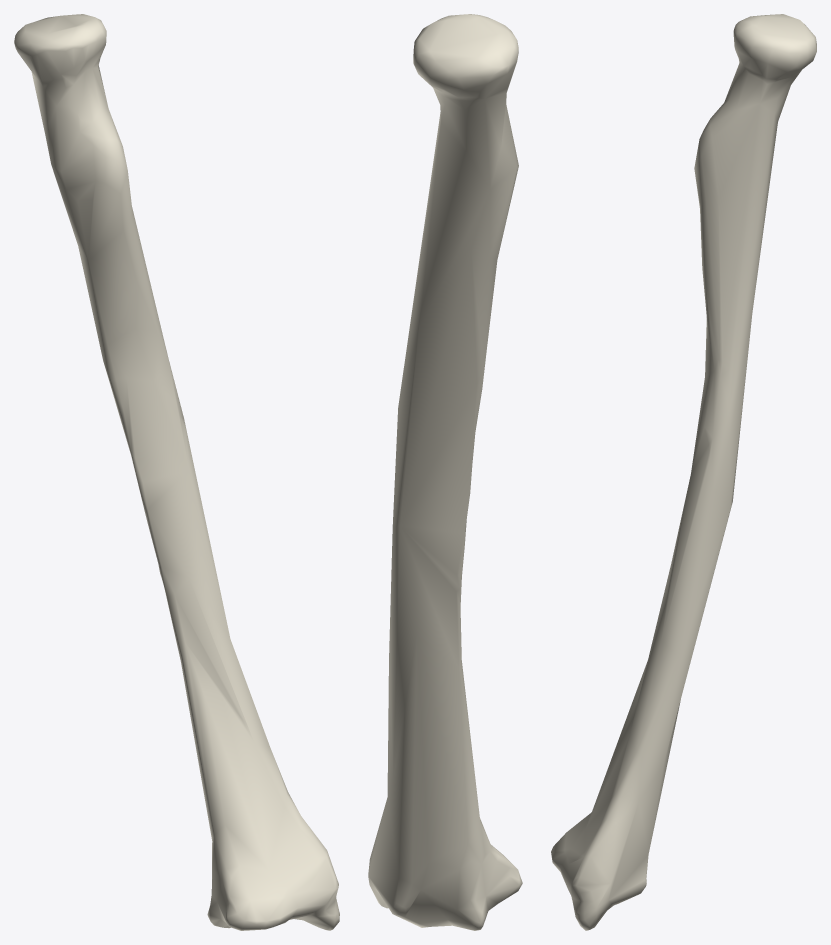
3 renders of one model, left to right at view 1: azimuth 30°, elevation 25°; view 2: azimuth 150°, elevation 25°; view 3: azimuth 270°, elevation 25°, orthographic. The views are drawn at different scales.
Parts seen in each view (by area): view 1: ZA_5e0d97935f00d1db; view 2: ZA_5e0d97935f00d1db; view 3: ZA_5e0d97935f00d1db.
Part boxes in pixels (x1,y1,x2,y2): ZA_5e0d97935f00d1db: (14,14,339,930); ZA_5e0d97935f00d1db: (368,14,522,930); ZA_5e0d97935f00d1db: (551,14,816,930).
Size of the model in its own units: 0.0618 by 0.237 by 0.0687.
